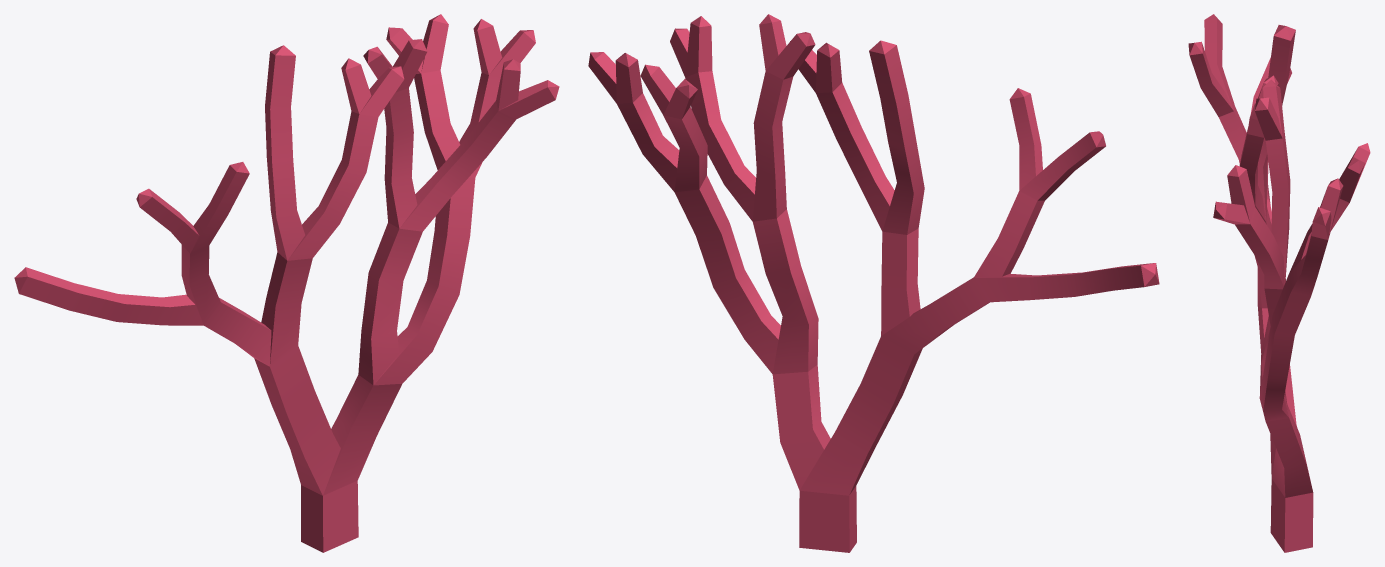
The model's file is coral_D_mini.fbx.
3 renders of one model, left to right at view 1: azimuth 30°, elevation 25°; view 2: azimuth 150°, elevation 25°; view 3: azimuth 270°, elevation 25°, orthographic. The views are drawn at different scales.
Visible parts, largest first — view 1: coral_D_mini; view 2: coral_D_mini; view 3: coral_D_mini.
Part boxes in pixels (x1,y1,x2,y2): coral_D_mini: [14, 14, 559, 552]; coral_D_mini: [588, 14, 1159, 552]; coral_D_mini: [1188, 14, 1370, 552].
Size of the model in its own units: 113 by 102 by 34.26.
